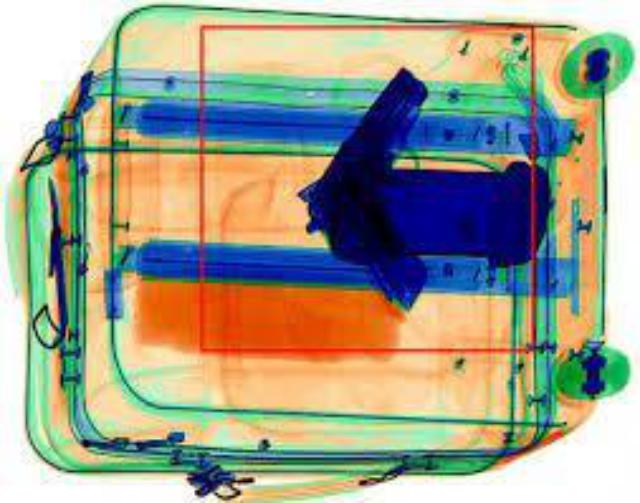Gun: (291, 62, 429, 317)
